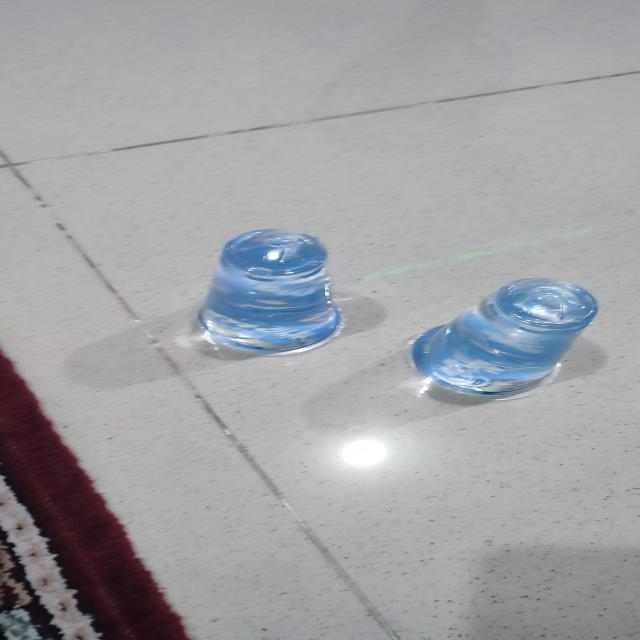air gelas: (402, 268, 604, 407), (188, 218, 357, 358)
